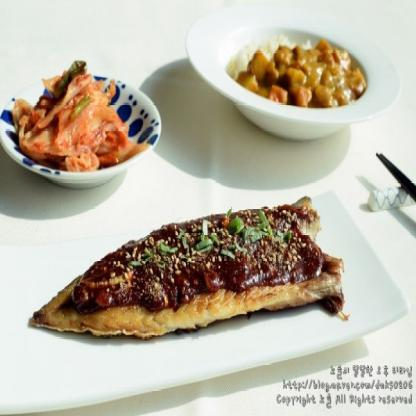Peixe: (24, 187, 350, 359)
